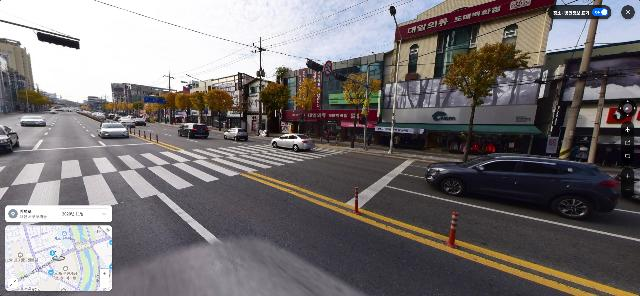ginkgo: (446, 39, 531, 162), (97, 88, 235, 130), (341, 69, 382, 148), (259, 81, 287, 136), (295, 75, 321, 134), (14, 88, 51, 111)
other: (232, 88, 250, 133)
